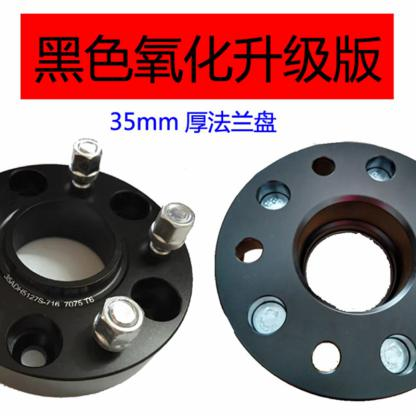FOD: (208, 138, 415, 402), (0, 160, 198, 401)
